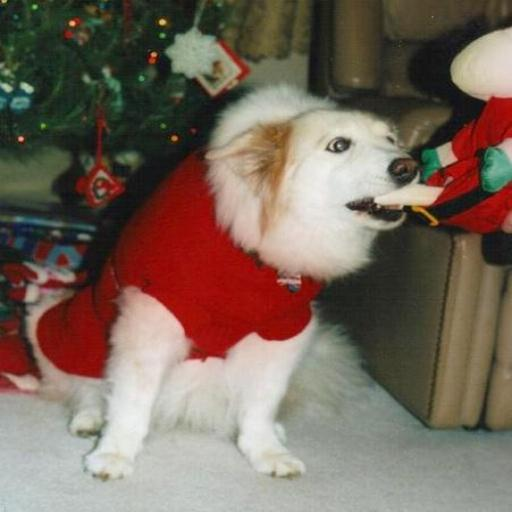dog_face: (223, 82, 421, 245)
